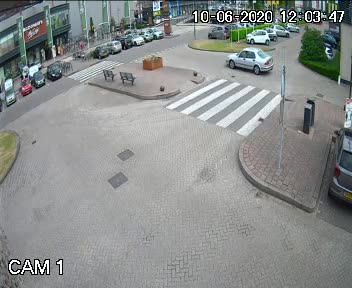car: (224, 43, 272, 78)
